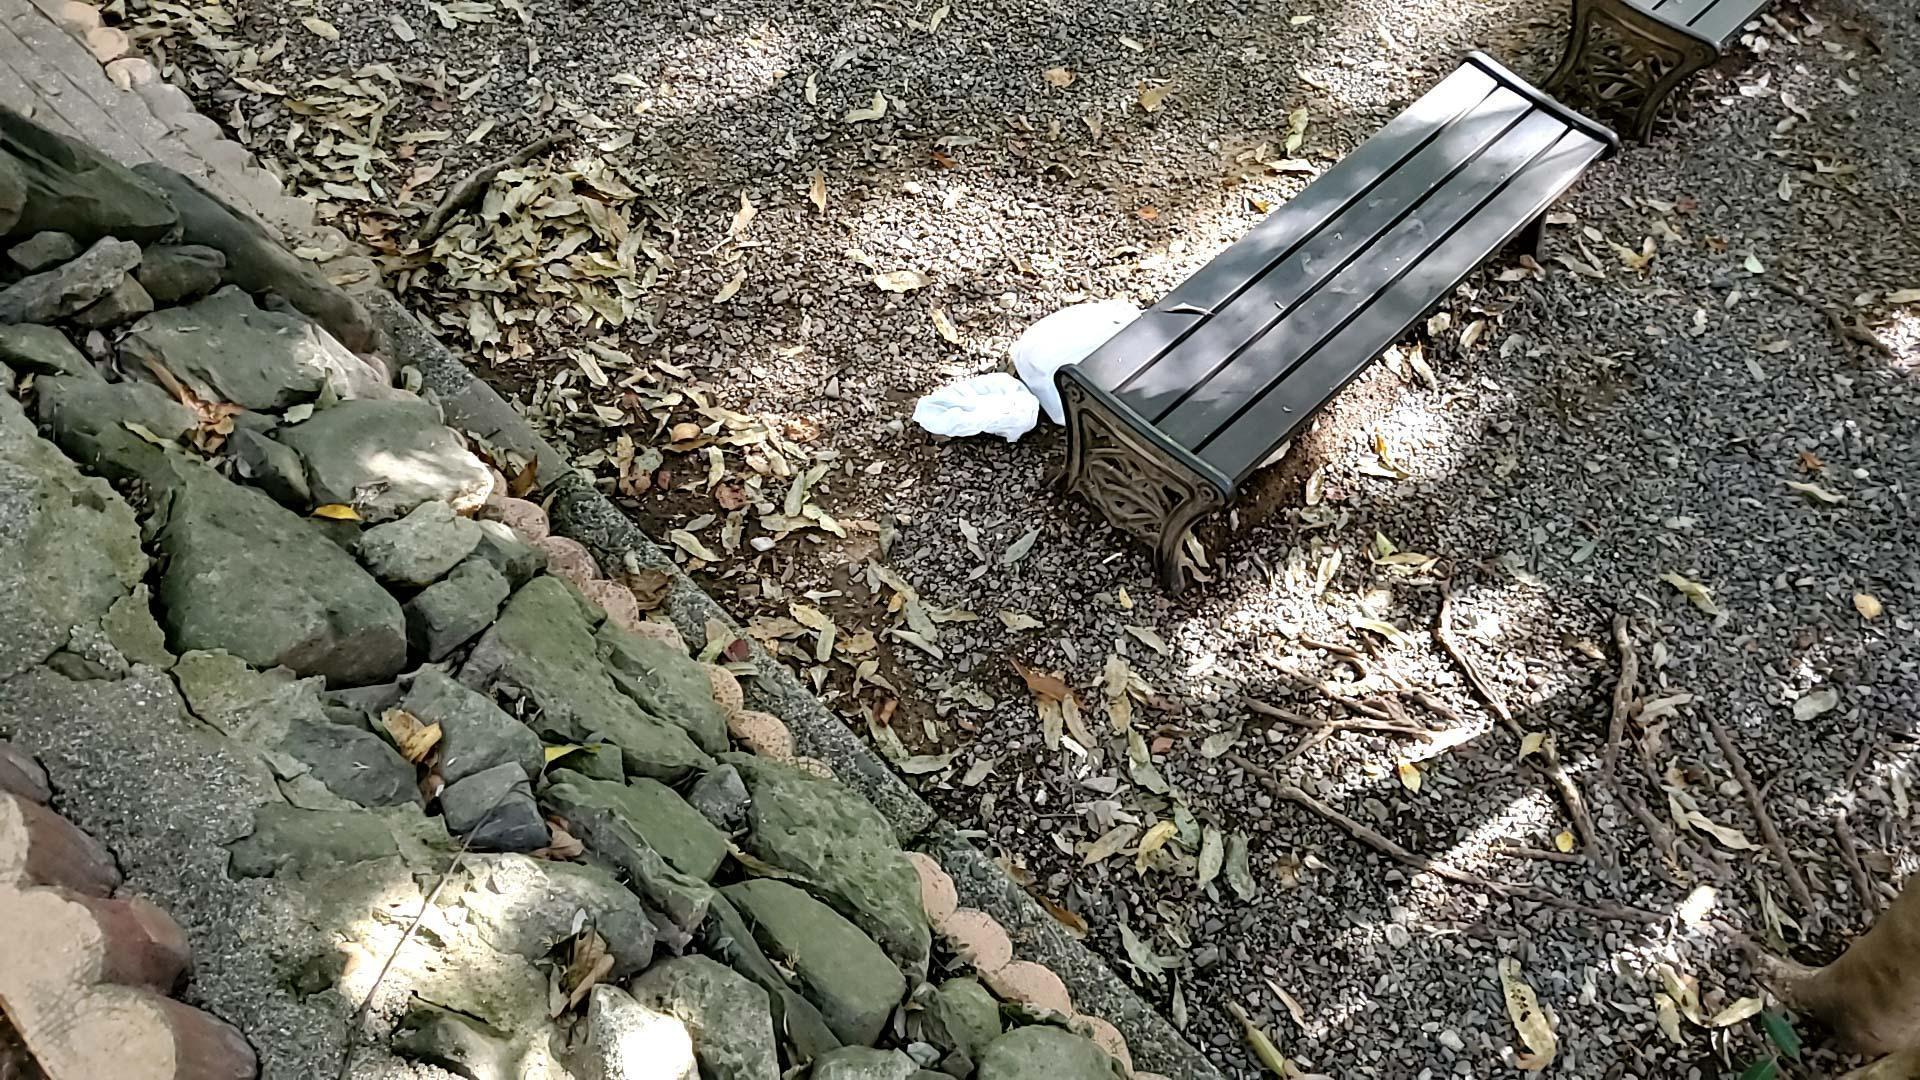white_bag: (1007, 295, 1154, 433), (906, 367, 1052, 448)
